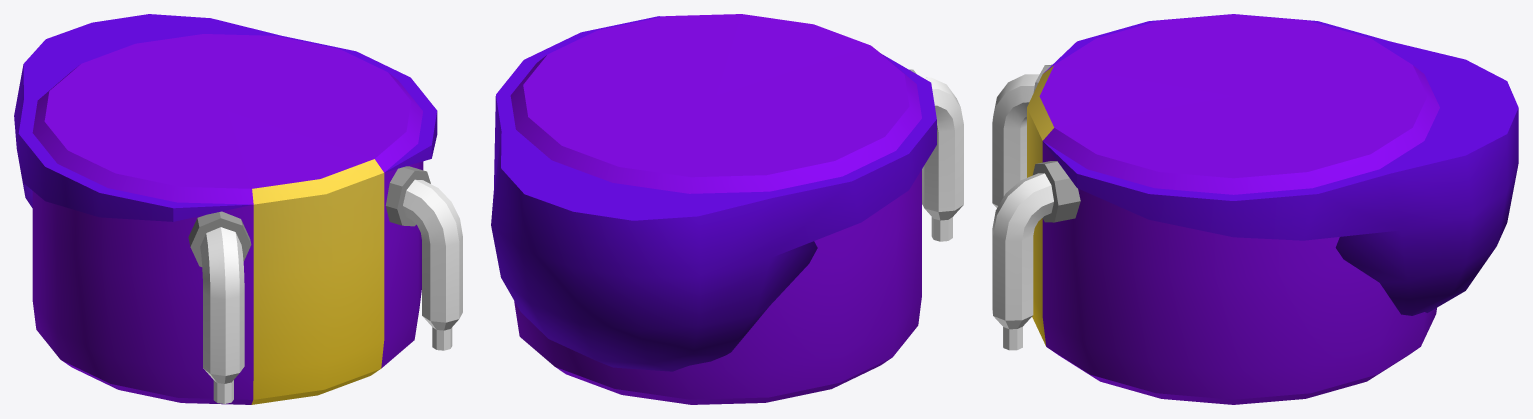
The model's file is Body_City_Dress_02.fbx.
The picture shows the model from 3 angles, left to right: view 1: azimuth 30°, elevation 25°; view 2: azimuth 150°, elevation 25°; view 3: azimuth 270°, elevation 25°; orthographic projection. The views are drawn at different scales.
Parts seen in each view (by area): view 1: Body_City_Dress_02; view 2: Body_City_Dress_02; view 3: Body_City_Dress_02.
Boxes of the visible parts, x1=… form: Body_City_Dress_02: x1=14, y1=14, x2=462, y2=404; Body_City_Dress_02: x1=491, y1=14, x2=963, y2=404; Body_City_Dress_02: x1=992, y1=14, x2=1518, y2=404.
Bounding box in the file's own units: 107 × 61.13 × 127.
